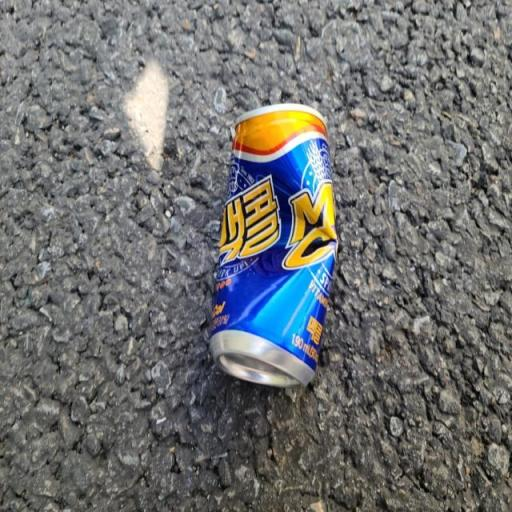metal: (188, 74, 356, 440)
